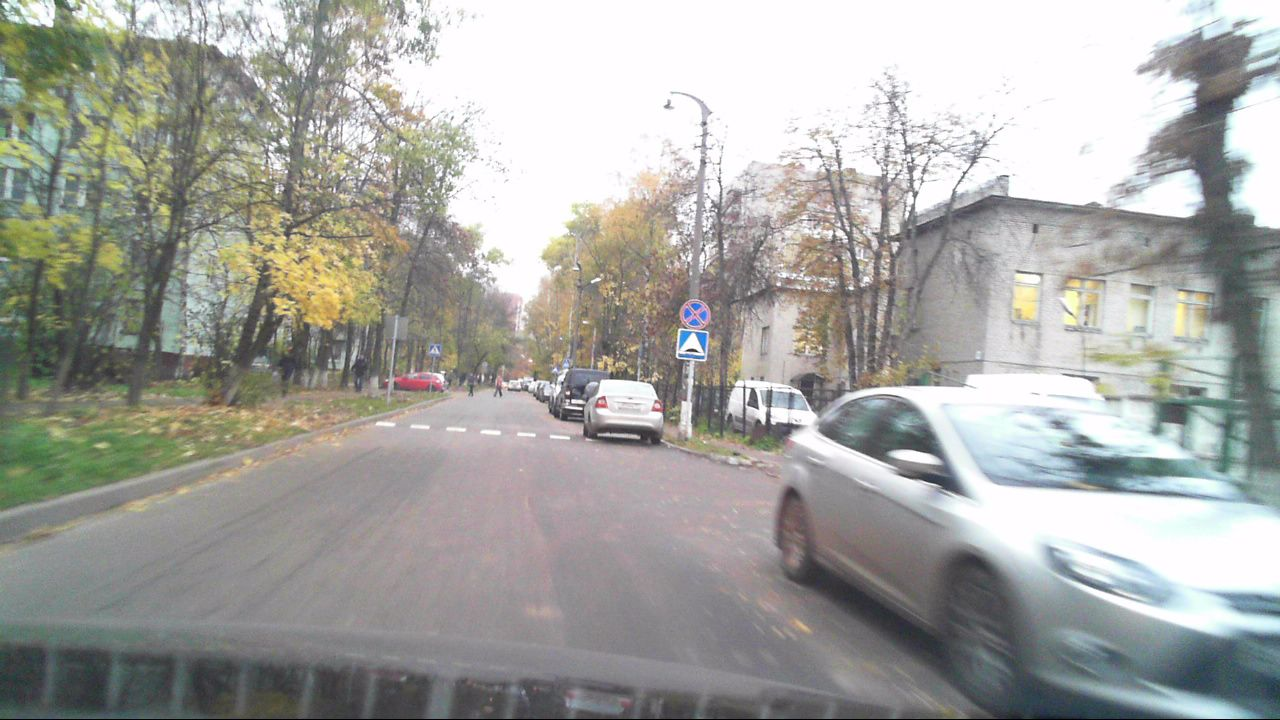No Parking: (679, 299, 710, 329)
